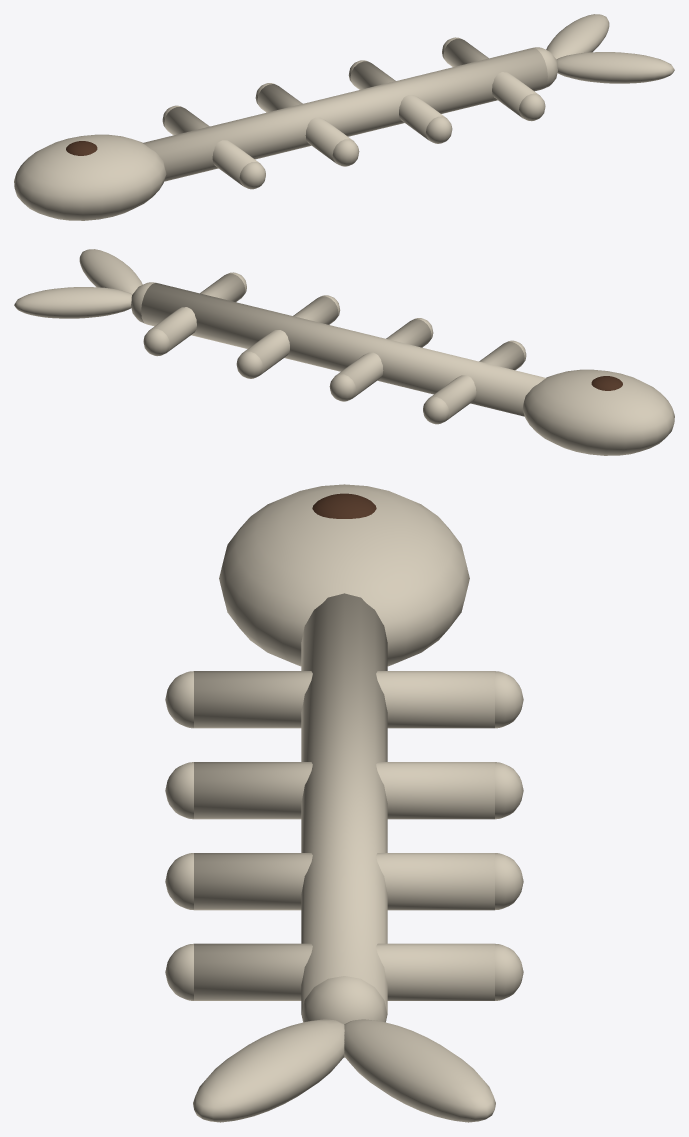
The model's file is fish_bones.glb.
3 renders of one model, top to bottom at view 1: azimuth 30°, elevation 25°; view 2: azimuth 150°, elevation 25°; view 3: azimuth 270°, elevation 25°, orthographic. The views are drawn at different scales.
Parts seen in each view (by area): view 1: fish_bones_spine, fish_bones_skull, fish_bones_tail, fish_bones_rib, fish_bones_rib.003, fish_bones_rib.001, fish_bones_rib.002, fish_bones_tail.001, fish_bones_eye_hole; view 2: fish_bones_spine, fish_bones_skull, fish_bones_tail.001, fish_bones_rib, fish_bones_rib.003, fish_bones_rib.001, fish_bones_rib.002, fish_bones_tail, fish_bones_eye_hole; view 3: fish_bones_spine, fish_bones_skull, fish_bones_rib.003, fish_bones_rib, fish_bones_rib.001, fish_bones_rib.002, fish_bones_tail, fish_bones_tail.001, fish_bones_eye_hole.
Part boxes in pixels (<box>): fish_bones_spine: <box>143,47,557,181</box>; fish_bones_skull: <box>14,134,166,220</box>; fish_bones_tail: <box>556,52,674,83</box>; fish_bones_rib: <box>162,105,265,189</box>; fish_bones_rib.003: <box>442,37,545,121</box>; fish_bones_rib.001: <box>255,83,359,166</box>; fish_bones_rib.002: <box>348,60,452,143</box>; fish_bones_tail.001: <box>546,14,609,59</box>; fish_bones_eye_hole: <box>66,141,97,155</box>; fish_bones_spine: <box>131,282,545,416</box>; fish_bones_skull: <box>522,369,674,455</box>; fish_bones_tail.001: <box>14,287,132,318</box>; fish_bones_rib: <box>423,340,526,424</box>; fish_bones_rib.003: <box>143,272,246,356</box>; fish_bones_rib.001: <box>329,318,433,401</box>; fish_bones_rib.002: <box>236,295,340,378</box>; fish_bones_tail: <box>79,249,142,294</box>; fish_bones_eye_hole: <box>591,376,622,390</box>; fish_bones_spine: <box>301,593,387,1057</box>; fish_bones_skull: <box>219,484,469,666</box>; fish_bones_rib.003: <box>165,943,523,1000</box>; fish_bones_rib: <box>165,671,523,728</box>; fish_bones_rib.001: <box>165,762,523,819</box>; fish_bones_rib.002: <box>165,853,523,910</box>; fish_bones_tail: <box>193,1019,344,1122</box>; fish_bones_tail.001: <box>344,1019,495,1122</box>; fish_bones_eye_hole: <box>312,493,376,518</box>.
Bounding box in the file's own units: 0.3995 × 0.042 × 0.1.
